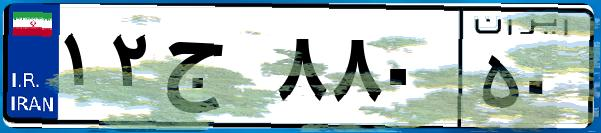0: (385, 28, 445, 110), (525, 38, 570, 115)
1: (57, 26, 110, 100)
2: (110, 28, 158, 98)
5: (475, 38, 525, 113)
8: (270, 28, 330, 110), (330, 28, 385, 110)
ج: (158, 20, 270, 120)
